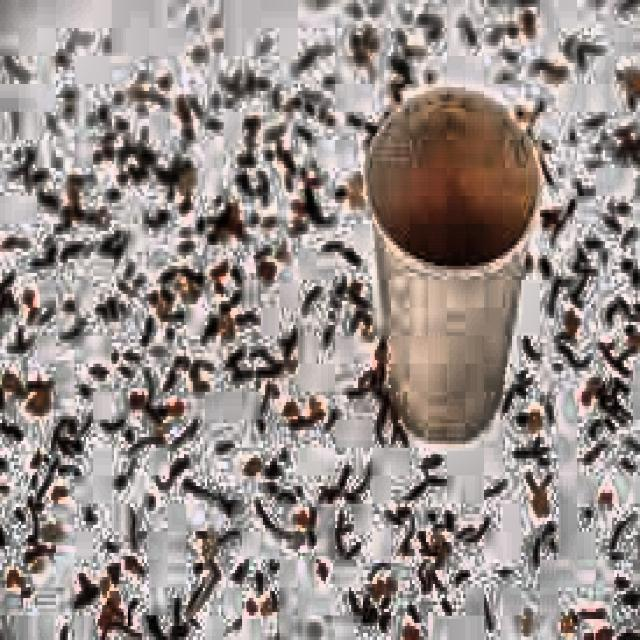Cup: (360, 82, 544, 442)
